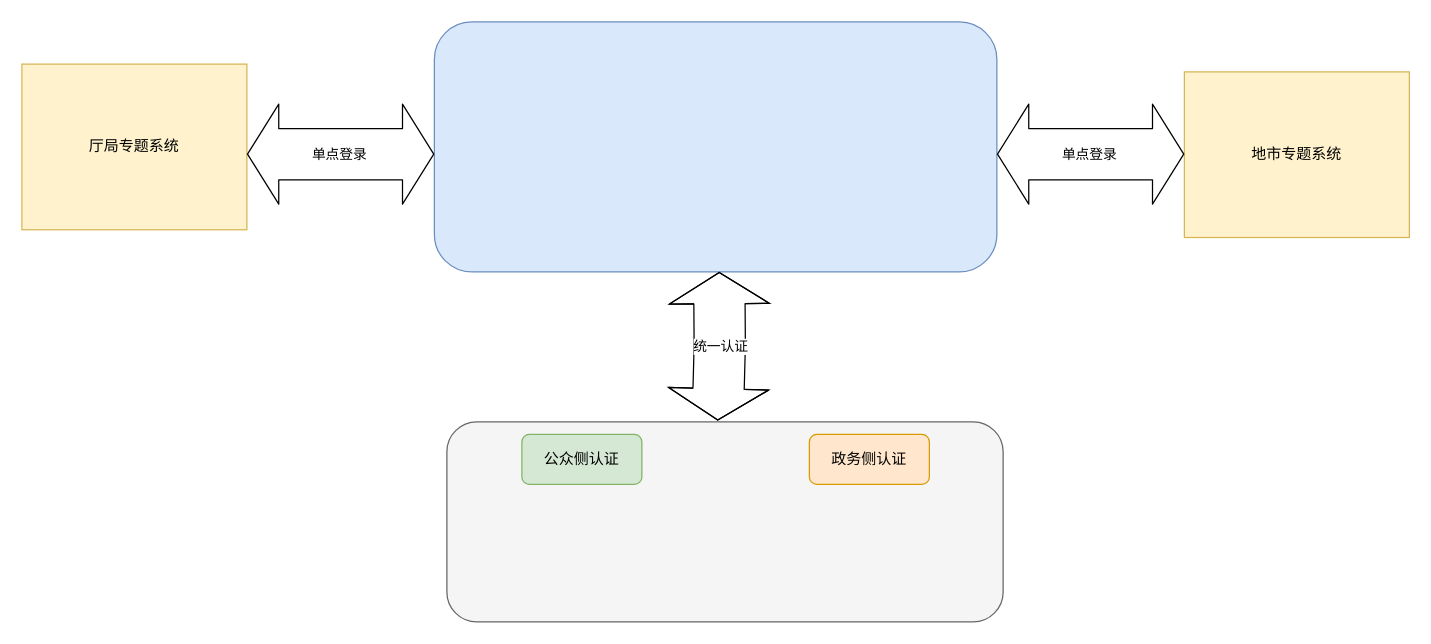
Some shapes in this 1431 by 644 pixel diagram are drawn without their labels. The box of each missing label's shape, as (x1, y1, x2, y2) in pixels:
广东省统一认证服务: (446, 421, 1003, 622)
粤治慧平台: (433, 21, 997, 272)
